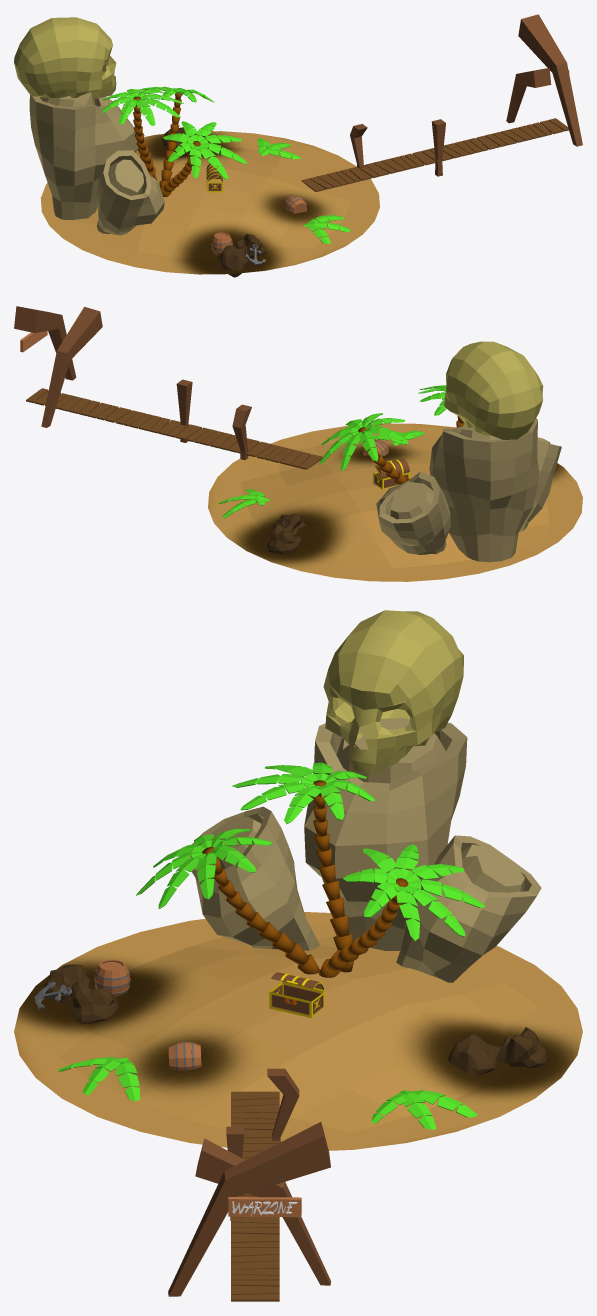
File: Warzone-transformed.glb
The picture shows the model from 3 angles, top to bottom: view 1: azimuth 30°, elevation 25°; view 2: azimuth 150°, elevation 25°; view 3: azimuth 270°, elevation 25°; orthographic projection. The views are drawn at different scales.
Parts seen in each view (by area): view 1: Circle.007, RockaGrande, Calabera, RockaMediana, Puente, Palo, Plane.027, Plane.026, Rock1, Palo.001, Cylinder.034, Cylinder.032 (+7 smaller); view 2: Circle.007, RockaGrande, Calabera, Puente, RockaMediana.001, Palo.001, Plane.028, Palo, RockaMediana, Rock2, Palo.003, Cofre (+2 smaller); view 3: Circle.007, RockaGrande, Calabera, RockaMediana.001, RockaMediana, Puente, Palo, Plane.028, Plane.026, Plane.027, Rock2, Palo.001 (+9 smaller).
Boxes of the visible parts, bbox=[...] form: Circle.007: bbox=[40, 131, 379, 274]; RockaGrande: bbox=[29, 92, 138, 219]; Calabera: bbox=[14, 17, 116, 99]; RockaMediana: bbox=[96, 150, 164, 235]; Puente: bbox=[301, 118, 568, 191]; Palo: bbox=[518, 14, 582, 146]; Plane.027: bbox=[163, 121, 247, 178]; Plane.026: bbox=[101, 89, 183, 126]; Rock1: bbox=[218, 234, 265, 277]; Palo.001: bbox=[506, 68, 551, 123]; Cylinder.034: bbox=[159, 93, 181, 188]; Cylinder.032: bbox=[133, 96, 157, 180]; Circle.007: bbox=[208, 423, 582, 581]; RockaGrande: bbox=[429, 418, 538, 562]; Calabera: bbox=[444, 341, 543, 439]; Puente: bbox=[26, 388, 322, 469]; RockaMediana.001: bbox=[376, 471, 450, 554]; Palo.001: bbox=[41, 307, 102, 427]; Plane.028: bbox=[319, 413, 405, 471]; Palo: bbox=[14, 306, 76, 380]; RockaMediana: bbox=[519, 437, 561, 531]; Rock2: bbox=[267, 514, 305, 554]; Palo.003: bbox=[232, 404, 251, 459]; Cofre: bbox=[373, 458, 409, 489]; Circle.007: bbox=[14, 912, 582, 1150]; RockaGrande: bbox=[304, 718, 467, 950]; Calabera: bbox=[323, 610, 463, 774]; RockaMediana.001: bbox=[396, 835, 541, 982]; RockaMediana: bbox=[190, 806, 319, 950]; Puente: bbox=[231, 1091, 279, 1301]; Palo: bbox=[168, 1122, 330, 1296]; Plane.028: bbox=[343, 844, 485, 941]; Plane.026: bbox=[232, 762, 375, 824]; Plane.027: bbox=[153, 829, 272, 908]; Rock2: bbox=[448, 1027, 547, 1075]; Palo.001: bbox=[195, 1138, 331, 1285].
Size of the model in its own units: 39.59 by 15.29 by 23.31.
Materials: 16 (1 with a texture image).
